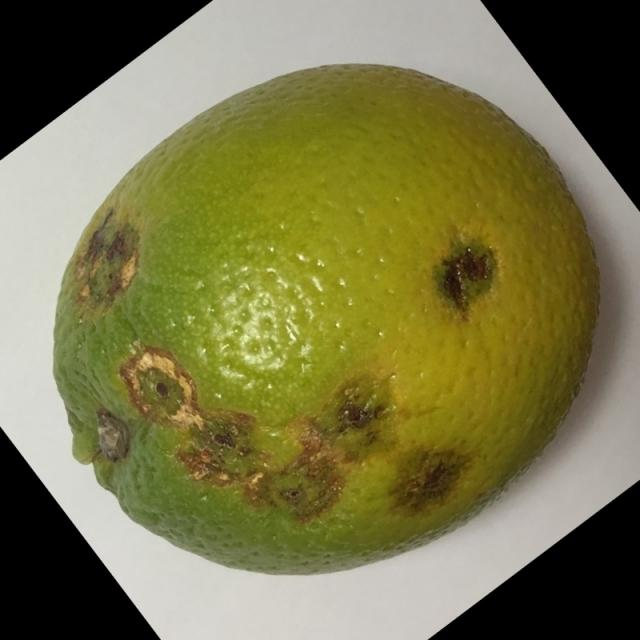canker: (36, 46, 624, 589)
